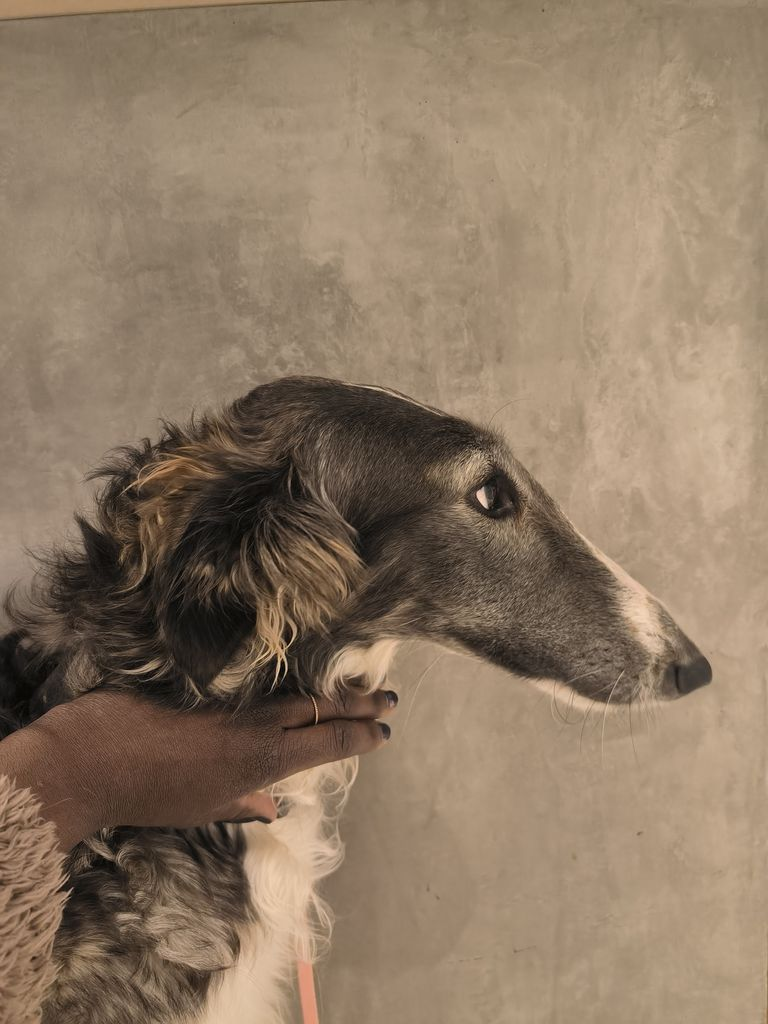borzoi: (0, 370, 736, 991)
